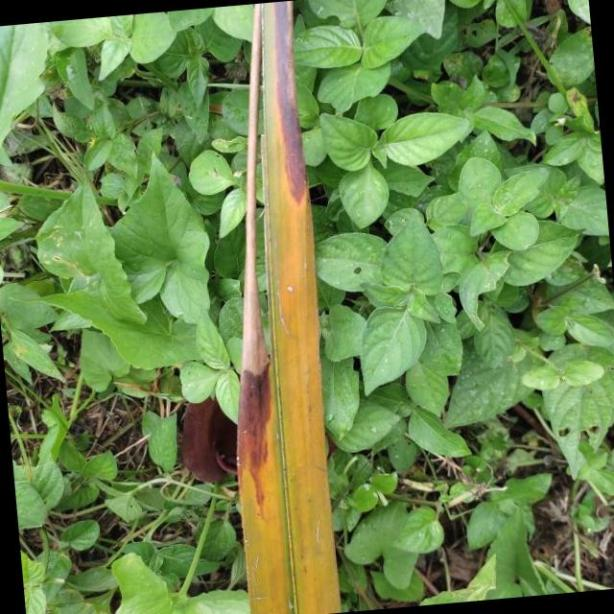Megnesium: (228, 0, 340, 614)
